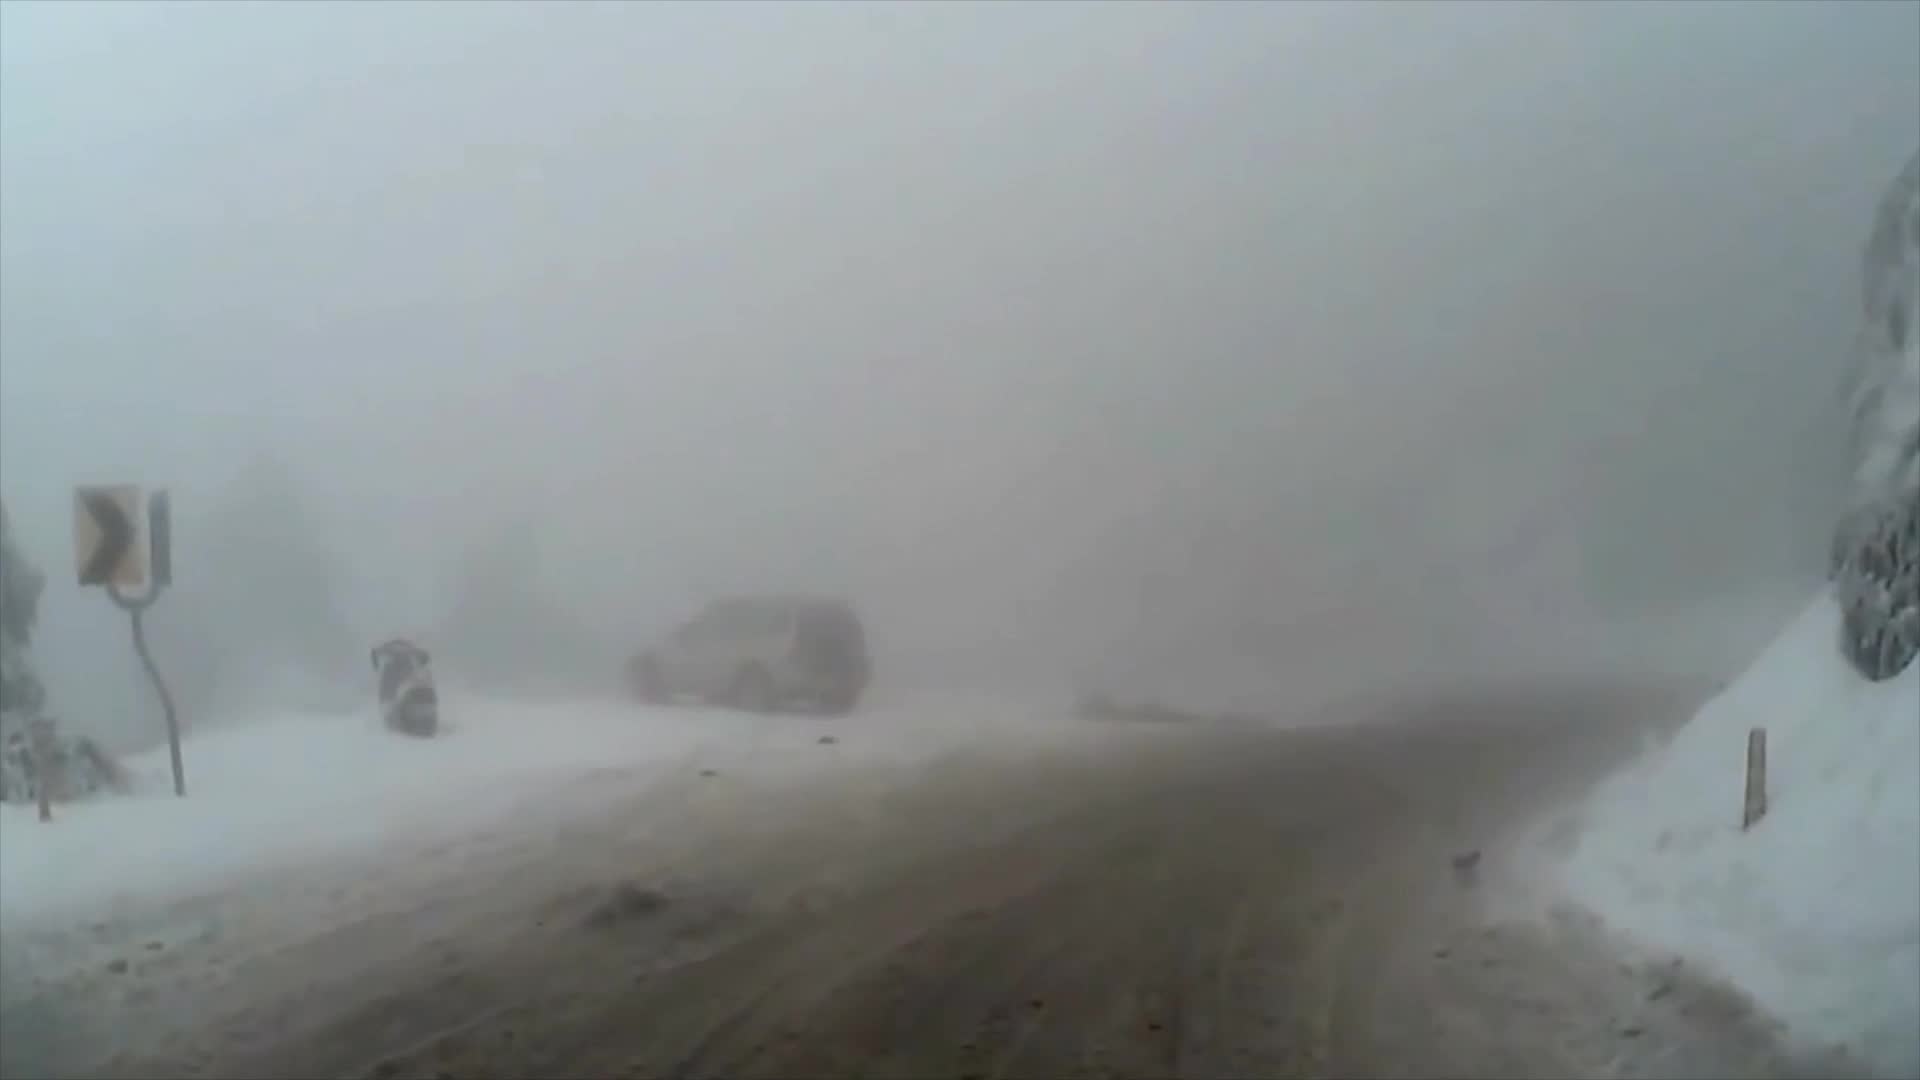vehicle: (626, 595, 870, 716)
